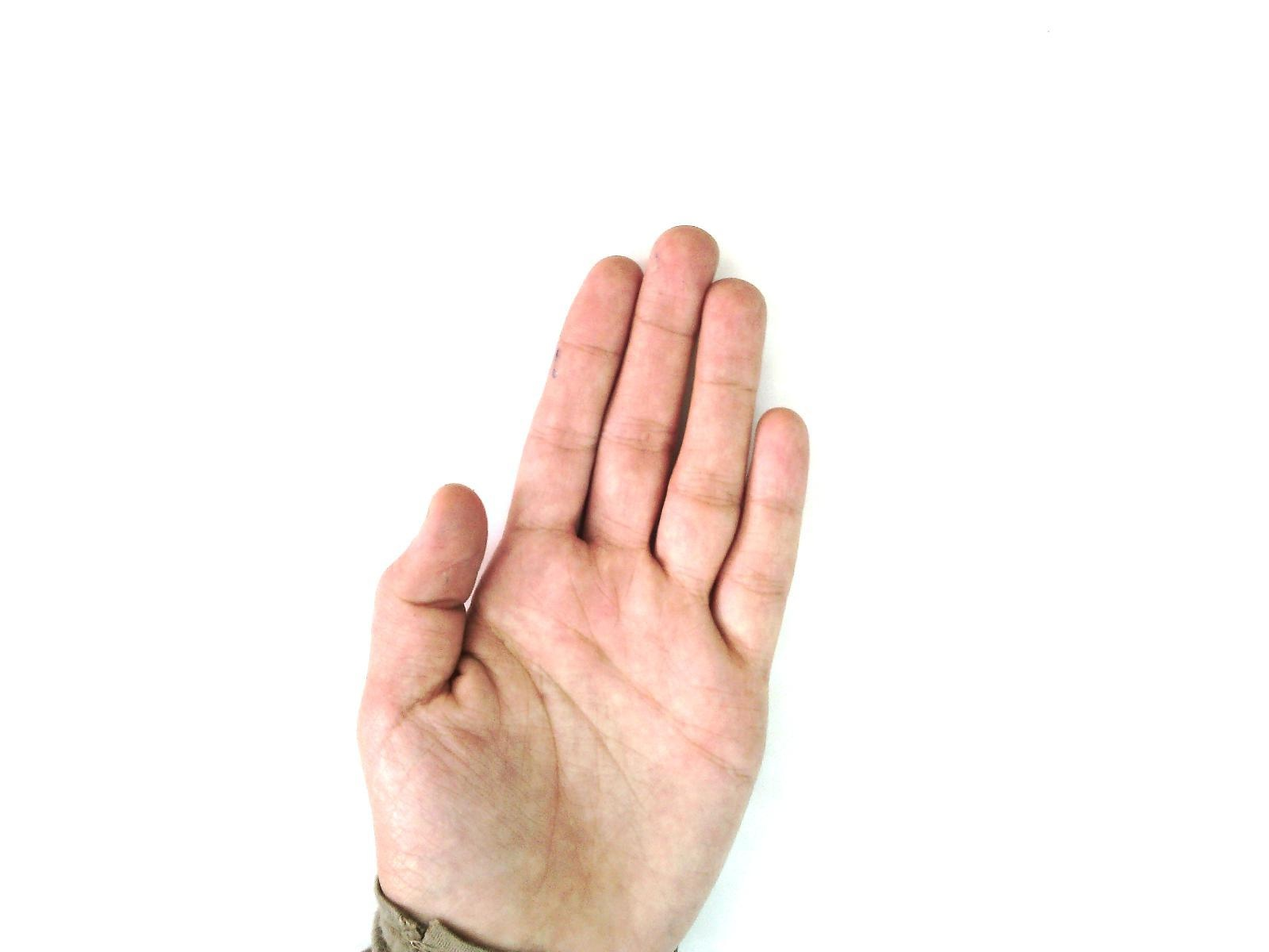open_palm: (355, 224, 813, 951)
